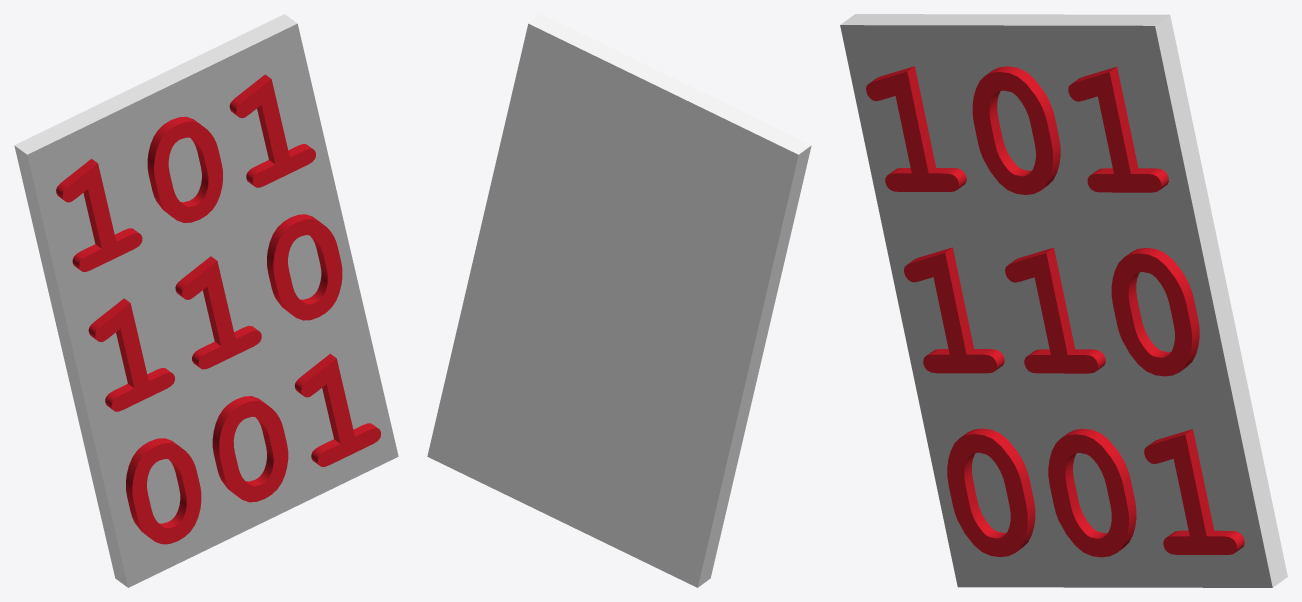
3 views of the same model, side by side, from view 1: azimuth 30°, elevation 25°; view 2: azimuth 150°, elevation 25°; view 3: azimuth 330°, elevation 25° (orthographic). The views are drawn at different scales.
Visible parts, largest first — view 1: Model, G_101_110_001_1; view 2: Model; view 3: Model, G_101_110_001_1.
Boxes of the visible parts, x1,y1,x2,y2 form: Model: (14,14,398,587); G_101_110_001_1: (56,74,380,544); Model: (427,14,811,587); Model: (840,14,1287,587); G_101_110_001_1: (866,66,1244,557).
Size of the model in its own units: 0.9877 by 1.33 by 0.09.
